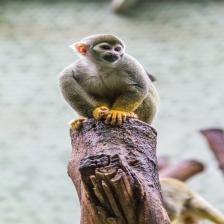monkey: (55, 29, 164, 133)
